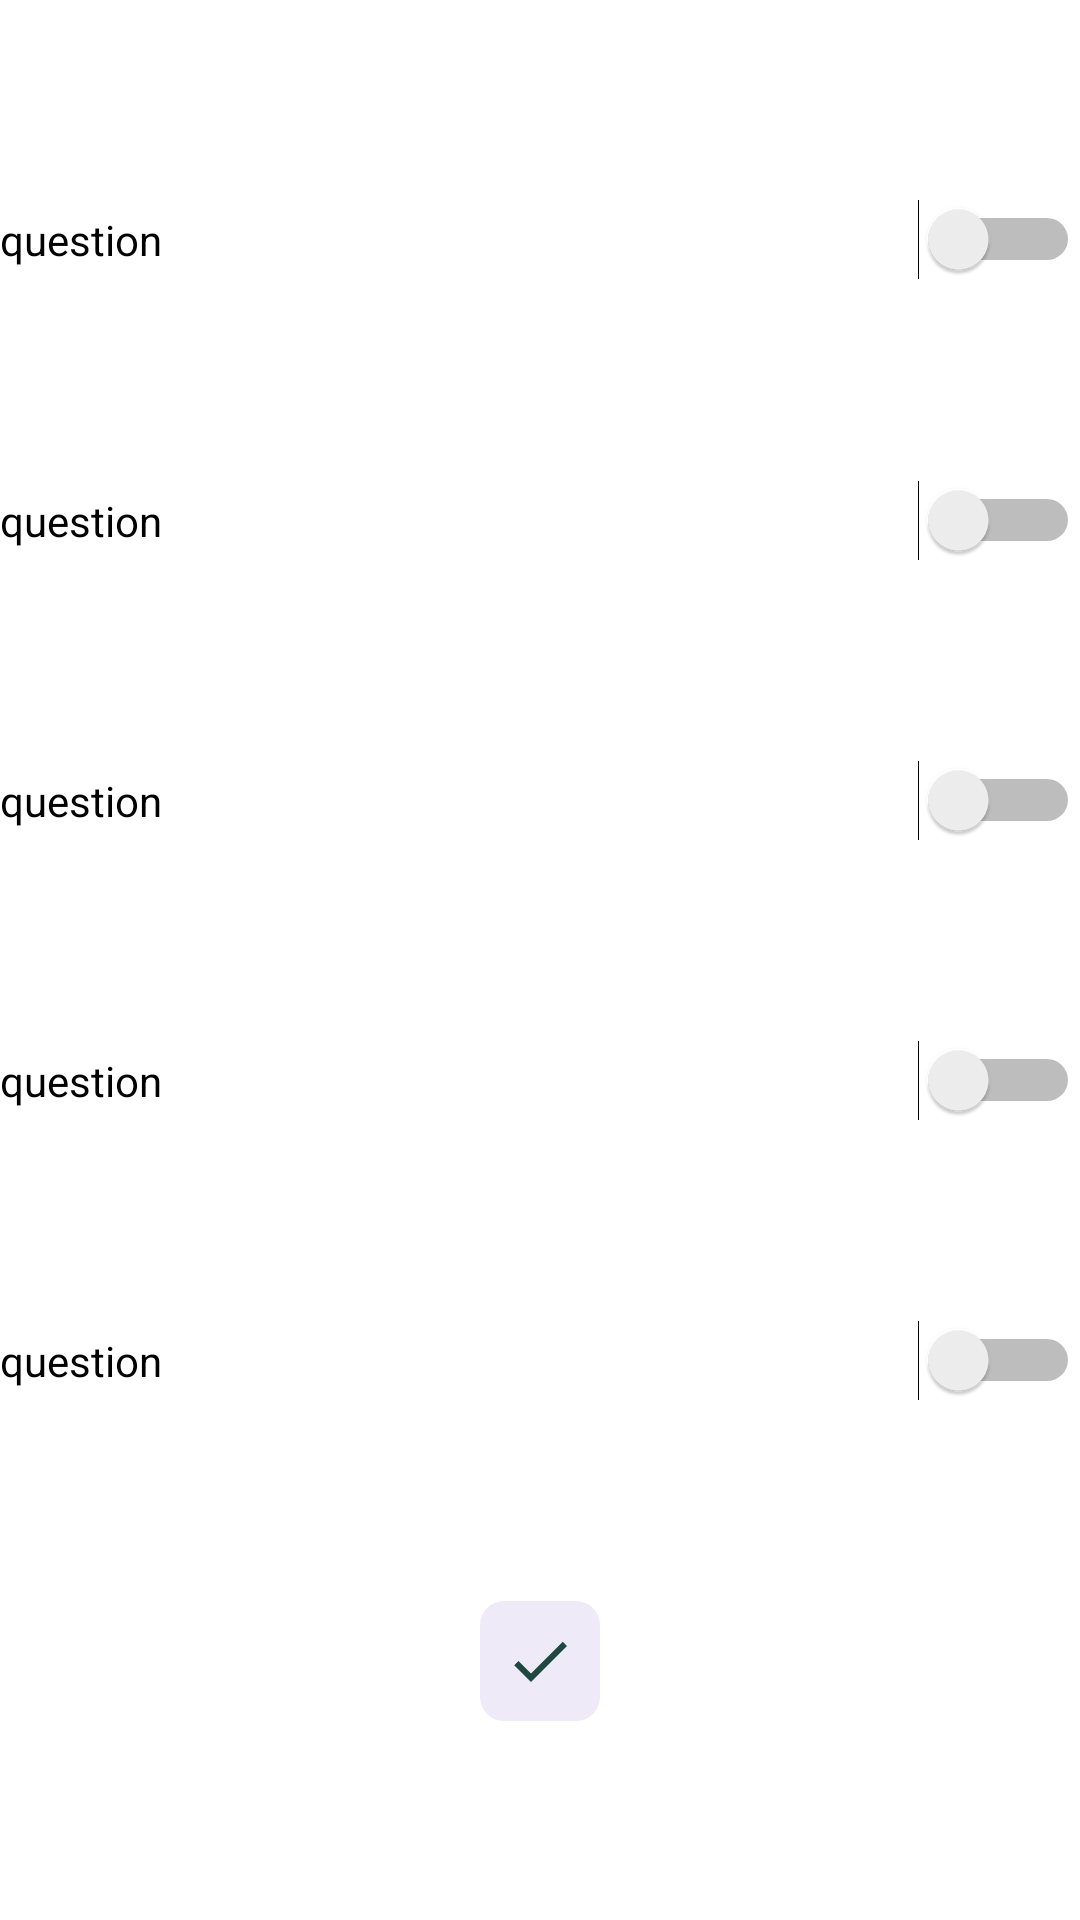

Icon click points for this 1080px×1920px phone screenshot, format (x=x, y=y):
check: (x=540, y=1661)
